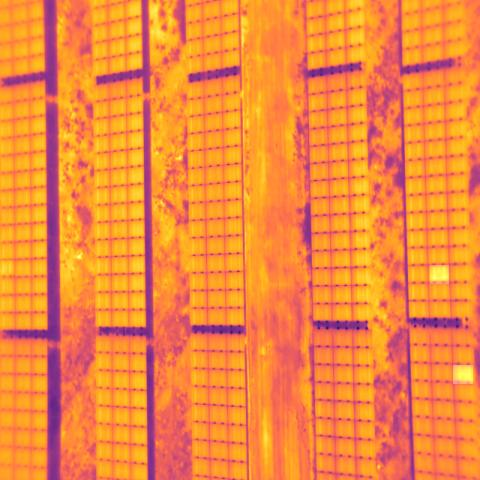fault: (453, 365, 474, 384), (430, 265, 449, 284), (0, 259, 15, 278)
